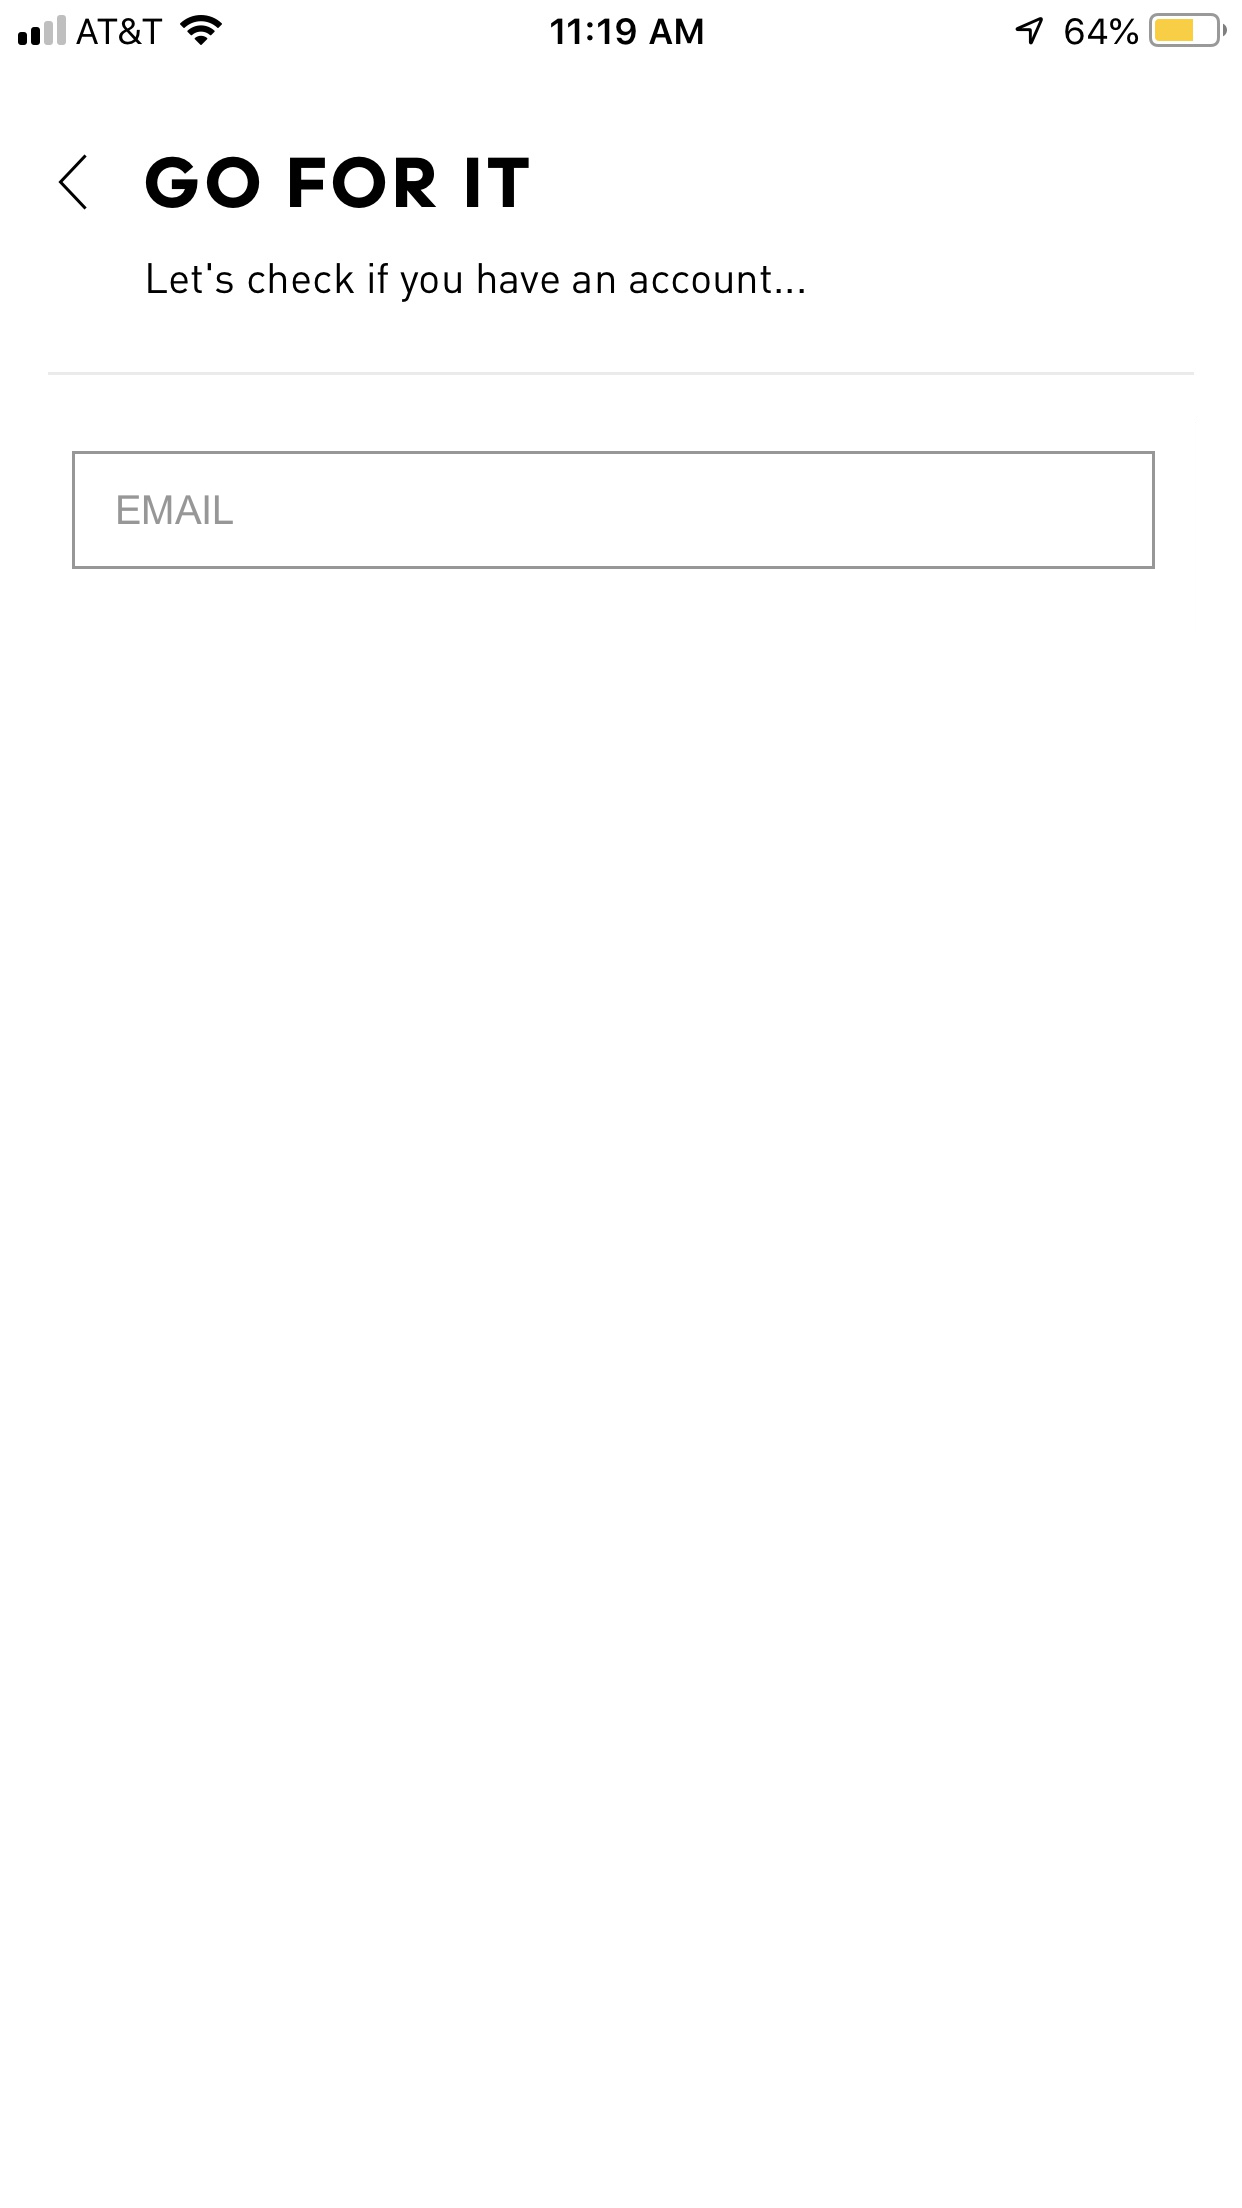EditText: (71, 452, 1156, 570)
Icon: (58, 155, 88, 212)
Text: (149, 262, 805, 303), (146, 158, 529, 209), (118, 496, 234, 525)
UpperTaskBar: (2, 2, 1242, 49)
